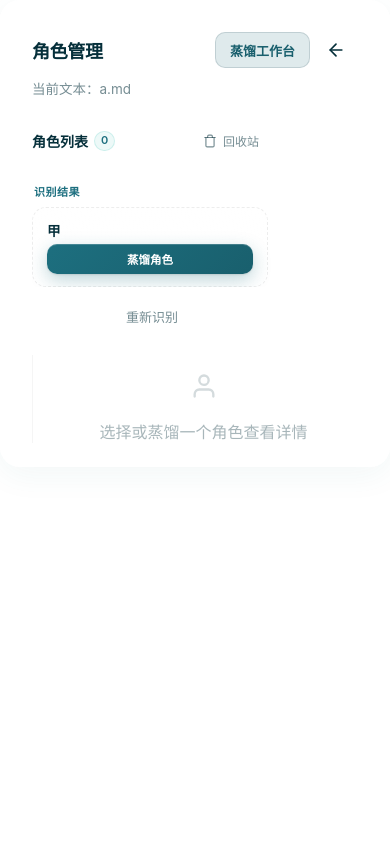
D24 ①b 第 3 步：重新识别 › 取消不发请求
Click the button "重新识别". click: click(152, 317)
box: x1=32 y1=299 x2=272 y2=335
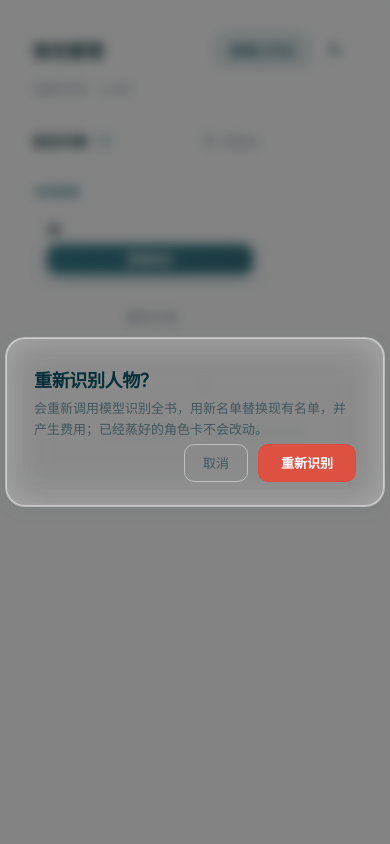
Click the button "取消". click: click(216, 463)
box: x1=184 y1=444 x2=248 y2=482
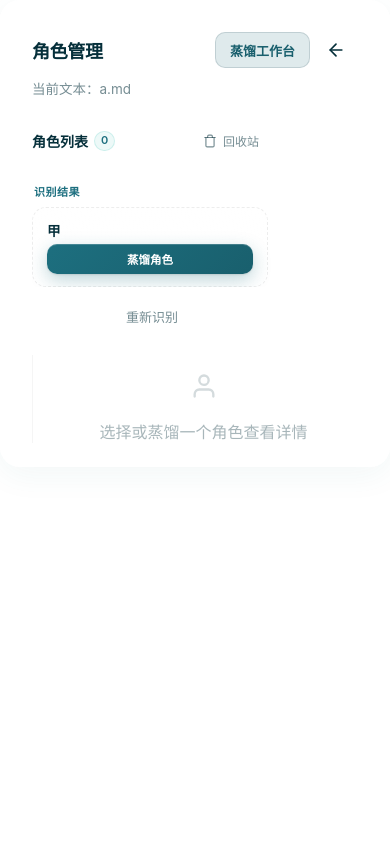
Check: the heading "重新识别人物？" is gone
